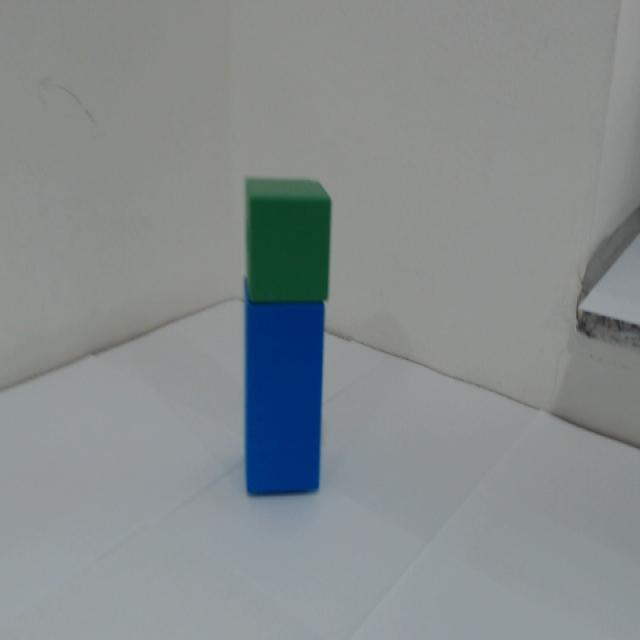cube: (237, 176, 335, 299)
